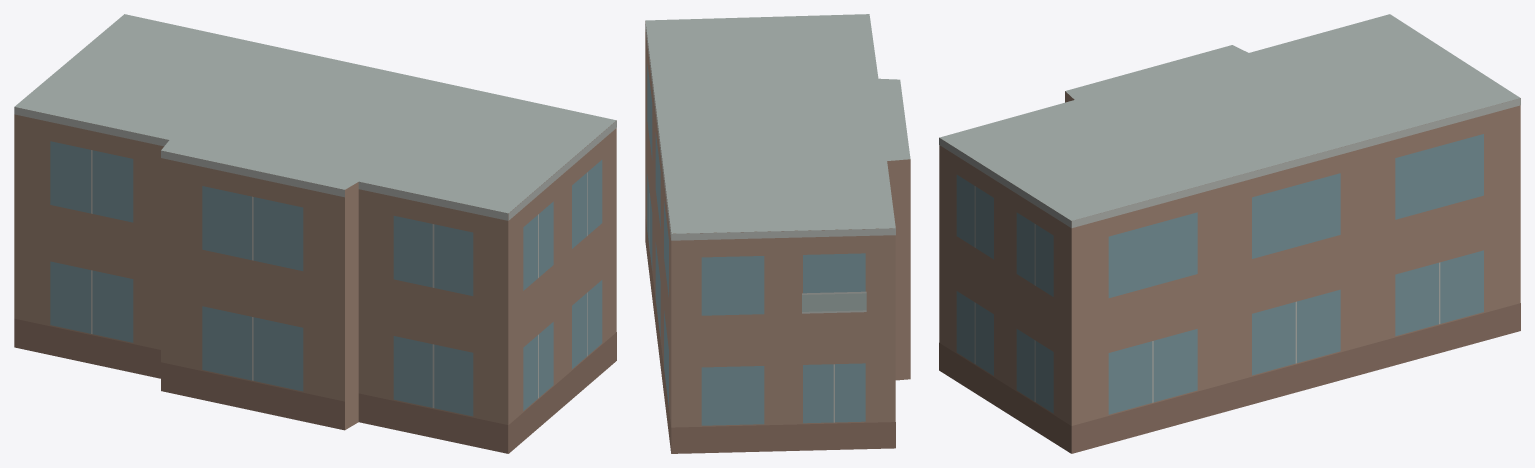
Rendered from survey-upis-32923443.glb.
3 renders of one model, left to right at view 1: azimuth 30°, elevation 25°; view 2: azimuth 150°, elevation 25°; view 3: azimuth 270°, elevation 25°, orthographic. The views are drawn at different scales.
Parts seen in each view (by area): view 1: survey-upis-32923443.tmp; view 2: survey-upis-32923443.tmp; view 3: survey-upis-32923443.tmp.
Part boxes in pixels (left/top/right/bottom): survey-upis-32923443.tmp: left=14, top=14, right=616, bottom=453; survey-upis-32923443.tmp: left=645, top=14, right=910, bottom=453; survey-upis-32923443.tmp: left=939, top=14, right=1520, bottom=453.
Bounding box in the file's own units: 14.88 × 7.8 × 17.66.
